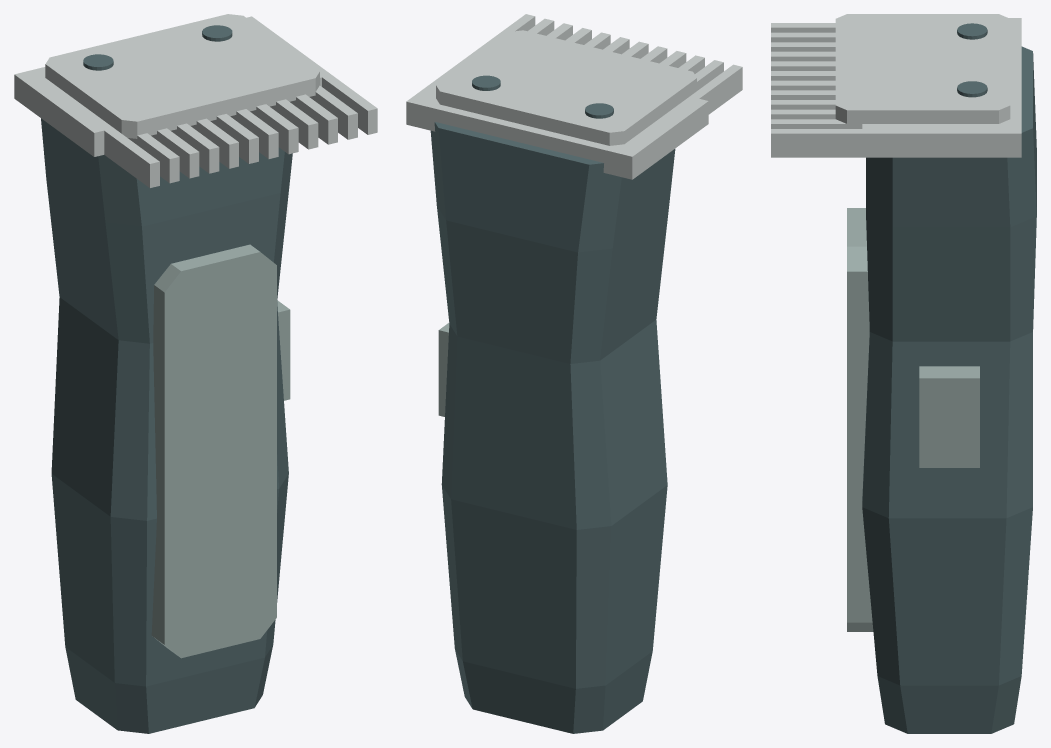
The picture shows the model from 3 angles, left to right: view 1: azimuth 30°, elevation 25°; view 2: azimuth 150°, elevation 25°; view 3: azimuth 270°, elevation 25°; orthographic projection. The views are drawn at different scales.
Visible parts, largest first — view 1: WholeContouredGripHousingAndHeadShoulder, WholeLongFaceCover, WholeShortUpperPlate, WholeTwelveToothFiniteCombAndBacking, WholeBlankSideThumbControl; view 2: WholeContouredGripHousingAndHeadShoulder, WholeShortUpperPlate, WholeTwelveToothFiniteCombAndBacking, WholeBlankSideThumbControl; view 3: WholeContouredGripHousingAndHeadShoulder, WholeShortUpperPlate, WholeTwelveToothFiniteCombAndBacking, WholeLongFaceCover, WholeBlankSideThumbControl.
Boxes of the visible parts, box(x1,y1,x2,y2) form: WholeContouredGripHousingAndHeadShoulder: box(41, 118, 292, 733); WholeLongFaceCover: box(151, 244, 276, 658); WholeShortUpperPlate: box(45, 14, 319, 138); WholeTwelveToothFiniteCombAndBacking: box(14, 16, 377, 187); WholeBlankSideThumbControl: box(277, 300, 290, 400); WholeContouredGripHousingAndHeadShoulder: box(430, 122, 675, 733); WholeShortUpperPlate: box(436, 30, 696, 145); WholeTwelveToothFiniteCombAndBacking: box(406, 14, 742, 179); WholeBlankSideThumbControl: box(438, 323, 449, 416); WholeContouredGripHousingAndHeadShoulder: box(862, 46, 1036, 733); WholeShortUpperPlate: box(835, 14, 1010, 125); WholeTwelveToothFiniteCombAndBacking: box(771, 18, 1021, 157); WholeLongFaceCover: box(847, 208, 873, 631); WholeBlankSideThumbControl: box(919, 366, 979, 467).
Bounding box in the file's own units: 0.072 × 0.186 × 0.07.
